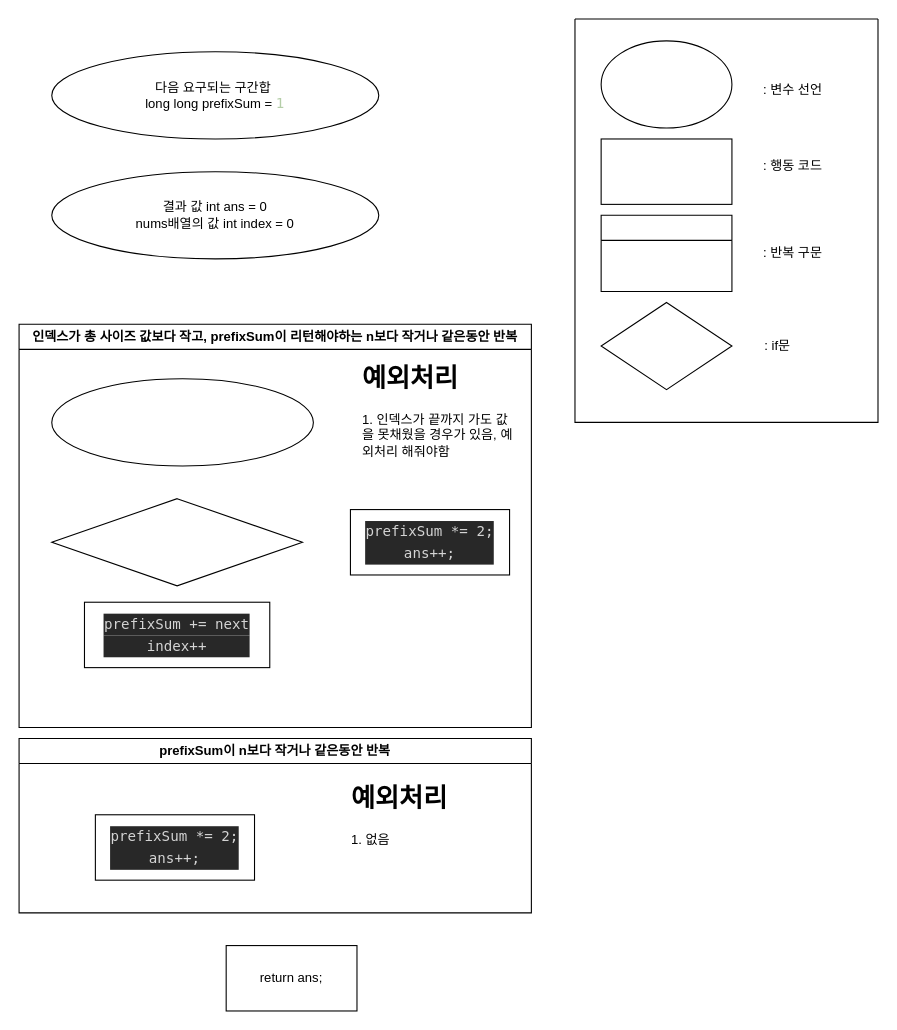
The diagram is 897 pixels wide and 1030 high, and some of its shapes have lost their labels. The centre of each missing label's shape, as x and y in pixels:
"next <= prefixSum" belongs at pixel 176 542.
"~ 동안" belongs at pixel 666 253.
"다음 값 Int next = nums[index]" belongs at pixel 182 422.
